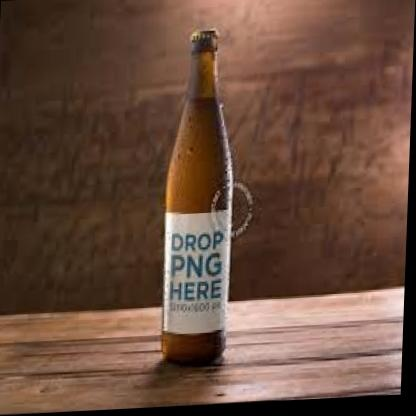trash: (162, 30, 232, 363)
